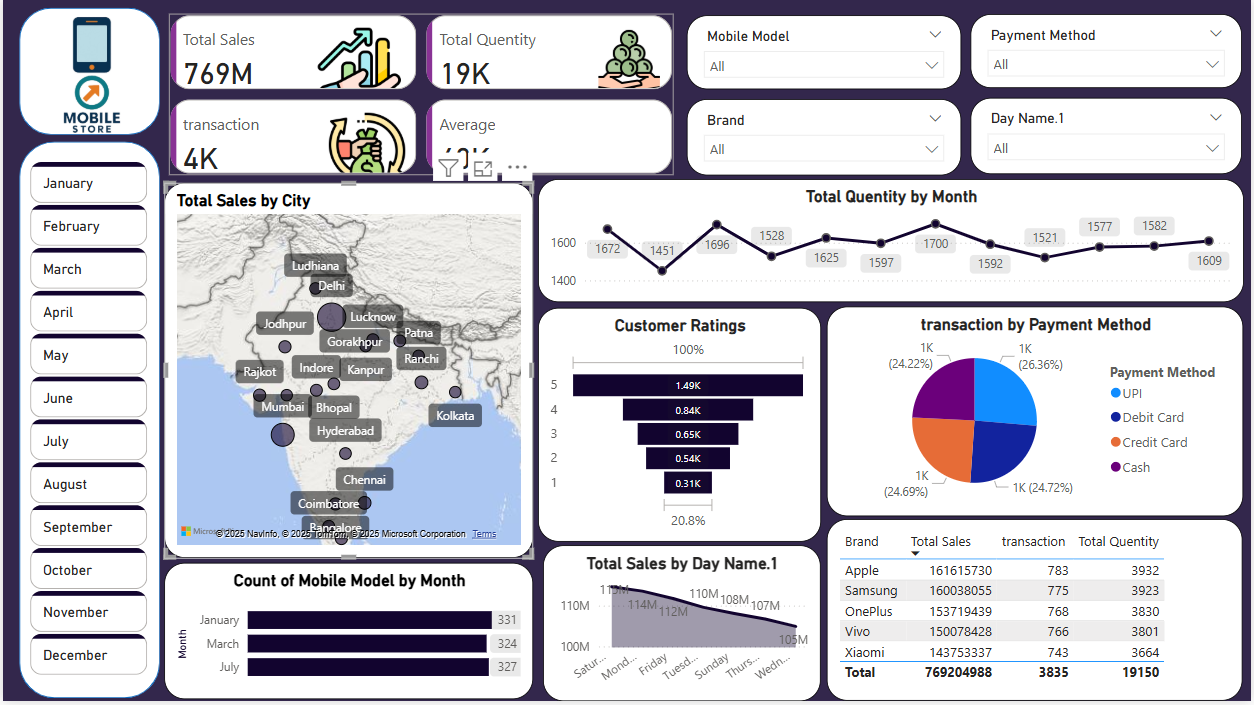

The page's visual inventory and layout, read from the dashboard file:
{"tool":"powerbi","page":{"name":"Page 1","canvas":[1280,720],"ordinal":0},"visuals":[{"type":"shape","box":[16.5,8.9,144.3,130.4],"z":0},{"type":"shape","box":[16.5,145.6,144.3,570.9],"z":1000},{"type":"advancedSlicerVisual","fields":{"Values":["Sheet1.Date.Variation.Date Hierarchy.Month"]},"box":[22.8,142.8,130.4,577.2],"z":2000},{"type":"cardVisual","fields":{"Data":["Sales_Data.Total Sales","Sales_Data.Total Quentity","Sales_Data.transaction","Sales_Data.Average"]},"box":[165,10,528.3,176.7],"z":3000},{"type":"map","fields":{"Category":["Sales_Data.City"],"Size":["Sales_Data.Total Sales"]},"box":[165,188.8,378.8,385],"z":4000},{"type":"lineChart","fields":{"Category":["Sales_Data.Date.Variation.Date Hierarchy.Month","Sales_Data.Date.Variation.Date Hierarchy.Day"],"Y":["Sales_Data.Total Quentity"]},"box":[548.8,185,723.8,126.2],"z":5000},{"type":"barChart","fields":{"Category":["Sales_Data.Date.Variation.Date Hierarchy.Month","Sales_Data.Date.Variation.Date Hierarchy.Day"],"Y":["CountNonNull(Sales_Data.Mobile Model)"]},"box":[165,578.8,378.8,140],"z":6000},{"type":"pieChart","fields":{"Y":["Sales_Data.transaction"],"Category":["Sales_Data.Payment Method"]},"box":[845,315,427.5,215],"z":7000},{"type":"funnel","title":" Customer Ratings","fields":{"Category":["Sales_Data.Customer Ratings"],"Y":["CountNonNull(Sales_Data.Customer Ratings)"]},"box":[548.8,316.2,290,240],"z":8000},{"type":"areaChart","fields":{"Category":["Sales_Data.Day Name.1"],"Y":["Sales_Data.Total Sales"]},"box":[553.8,560,285,160],"z":9000},{"type":"tableEx","fields":{"Values":["Sales_Data.Brand","Sales_Data.Total Sales","Sales_Data.transaction","Sales_Data.Total Quentity"]},"box":[845,533.8,426.2,186.2],"z":10000},{"type":"slicer","fields":{"Values":["Sales_Data.Mobile Model"]},"box":[701.4,17.1,281.4,75.7],"z":11000},{"type":"slicer","fields":{"Values":["Sales_Data.Payment Method"]},"box":[992.9,15.7,278.6,75.7],"z":12000},{"type":"slicer","fields":{"Values":["Sales_Data.Brand"]},"box":[701.4,102.9,281.4,78.6],"z":13000},{"type":"slicer","fields":{"Values":["Sales_Data.Day Name.1"]},"box":[992.9,101.4,278.6,78.6],"z":14000},{"type":"image","box":[0,0,182.9,153.9],"z":15000}]}

Visuals, with their boxes in screenshot pixels (x1, y1, x2, y2), scaled from the page's 1280x720 canvas onto the 1254x705 screenshot:
shape: x1=16 y1=9 x2=158 y2=136
shape: x1=16 y1=143 x2=158 y2=702
advancedSlicerVisual - Sheet1.Date.Variation.Date Hierarchy.Month: x1=22 y1=140 x2=150 y2=704
cardVisual - Sales_Data.Total Sales x Sales_Data.Total Quentity: x1=162 y1=10 x2=679 y2=183
map - Sales_Data.City x Sales_Data.Total Sales: x1=162 y1=185 x2=533 y2=562
lineChart - Sales_Data.Date.Variation.Date Hierarchy.Month x Sales_Data.Date.Variation.Date Hierarchy.Day: x1=538 y1=181 x2=1247 y2=305
barChart - Sales_Data.Date.Variation.Date Hierarchy.Month x Sales_Data.Date.Variation.Date Hierarchy.Day: x1=162 y1=567 x2=533 y2=704
pieChart - Sales_Data.transaction x Sales_Data.Payment Method: x1=828 y1=308 x2=1247 y2=519
" Customer Ratings" funnel: x1=538 y1=310 x2=822 y2=545
areaChart - Sales_Data.Day Name.1 x Sales_Data.Total Sales: x1=543 y1=548 x2=822 y2=704
tableEx - Sales_Data.Brand x Sales_Data.Total Sales: x1=828 y1=523 x2=1245 y2=704
slicer - Sales_Data.Mobile Model: x1=687 y1=17 x2=963 y2=91
slicer - Sales_Data.Payment Method: x1=973 y1=15 x2=1246 y2=89
slicer - Sales_Data.Brand: x1=687 y1=101 x2=963 y2=178
slicer - Sales_Data.Day Name.1: x1=973 y1=99 x2=1246 y2=176
image: x1=0 y1=0 x2=179 y2=151
